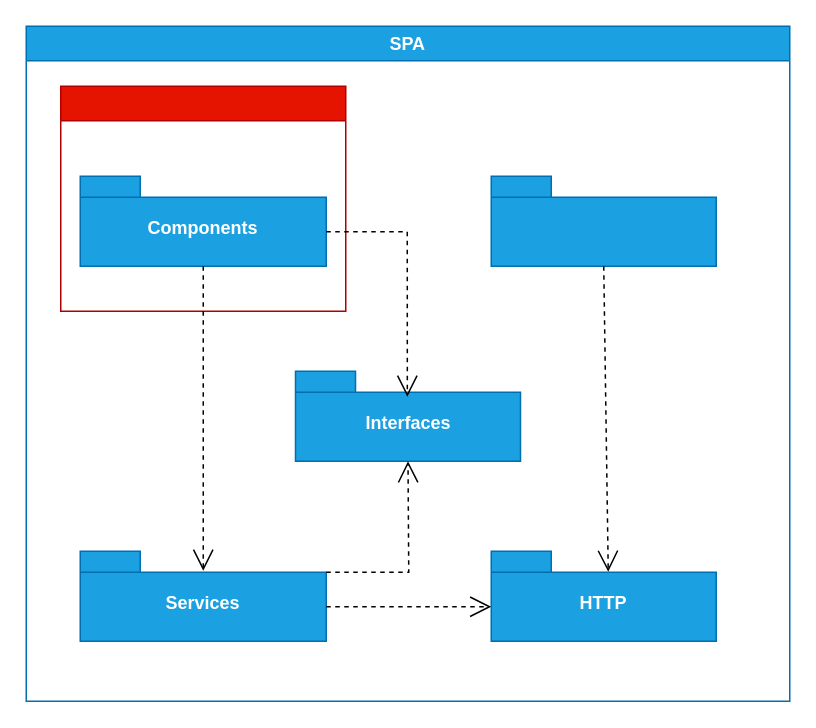
Some shapes in this 816 by 728 pixel diagram are drawn without their labels. Here are the shapes that lost their labels. From the top down, the box of each, then its label:
(59, 85, 346, 311): Angular
(490, 175, 716, 266): Interceptors
